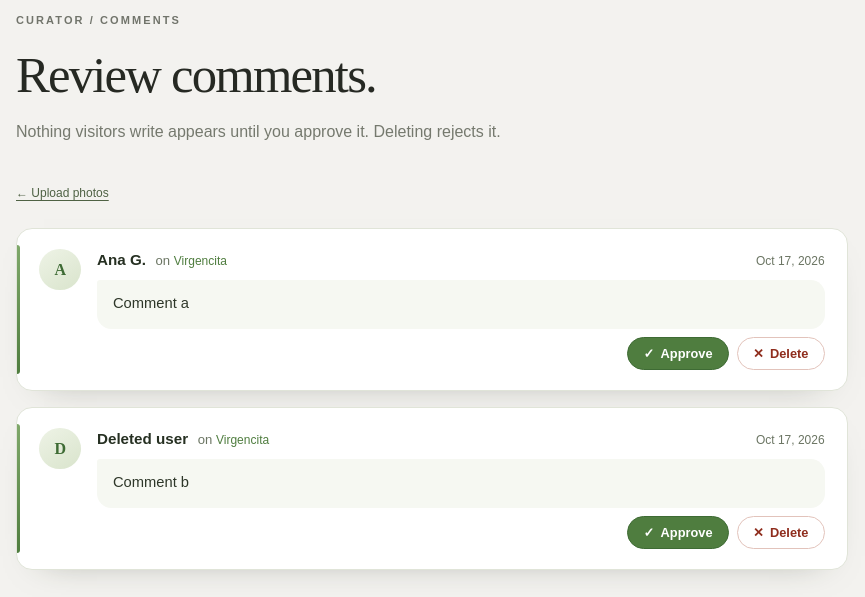
Test: CommentModeration › approves or deletes a comment and takes it out of the queue
The width and height of the screenshot is (865, 597).
Expected: the text "Comment a" is shown, [97,280,825,329]
Click the 1st button "✓ Approve" at (678, 353), box [627,337,729,370]
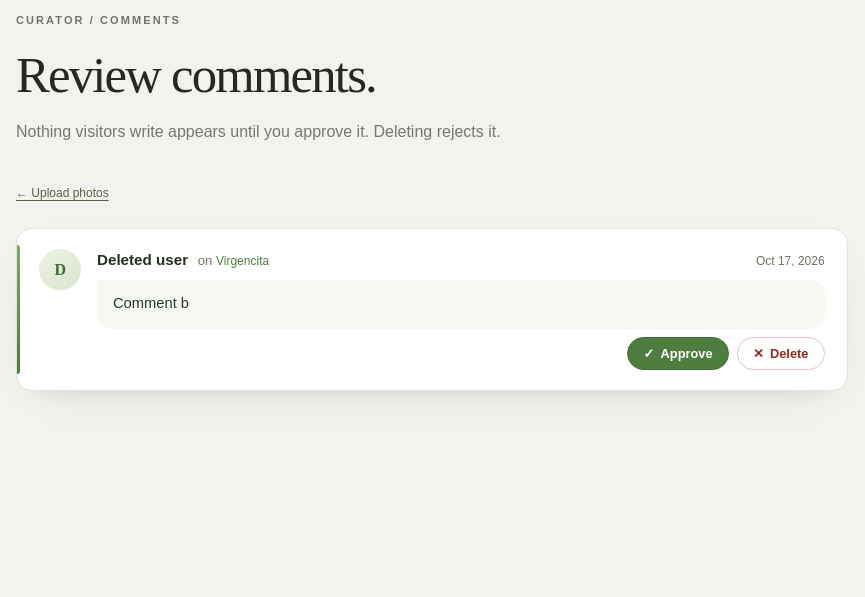
Result: the text "Comment a" is gone
Click the button "✕ Delete" at (781, 353), box [737,337,825,370]
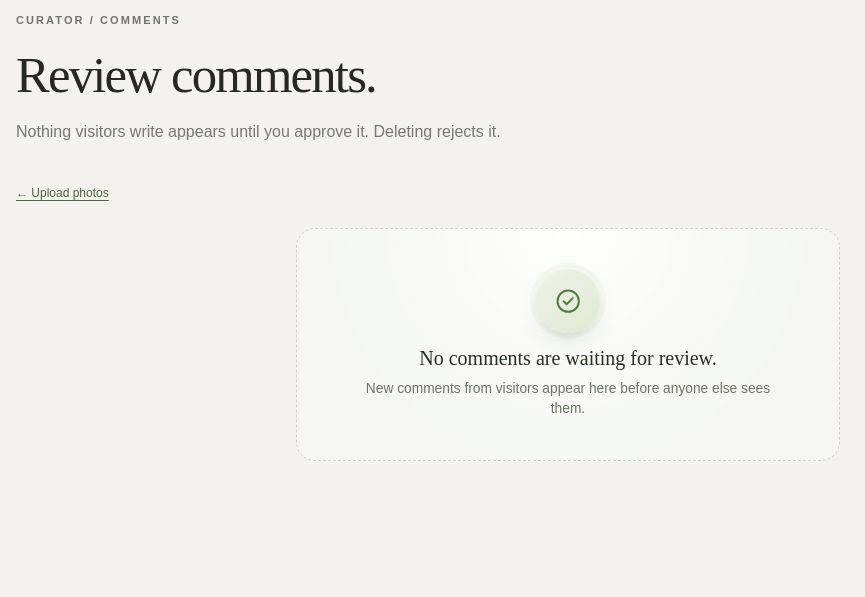
Result: the text "No comments are waiting for review." is shown at [419,345,717,371]
